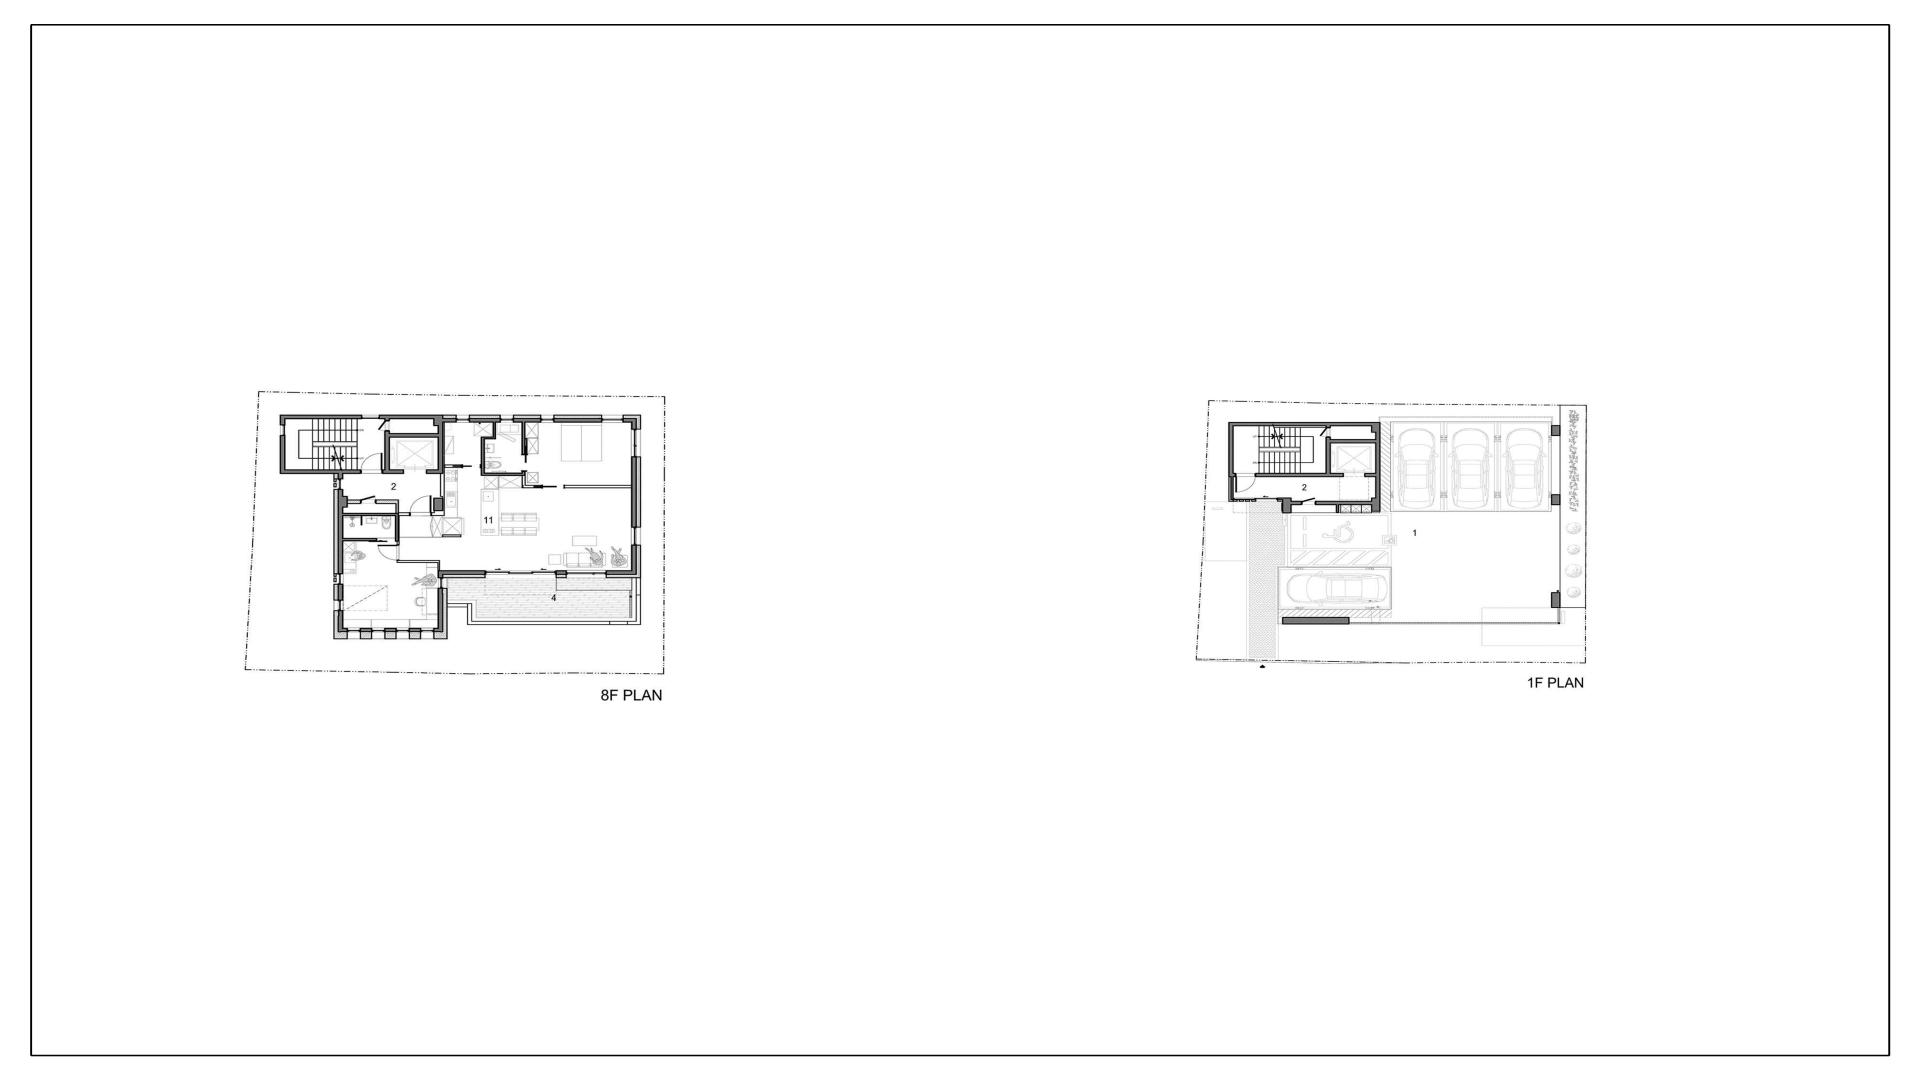door: (360, 452, 382, 473), (409, 496, 431, 516), (377, 542, 400, 560), (1236, 473, 1255, 492), (1233, 497, 1276, 501), (534, 484, 564, 489), (521, 454, 529, 472), (444, 464, 481, 468), (360, 496, 376, 504), (378, 421, 390, 431), (1302, 497, 1316, 505), (1320, 427, 1331, 438), (368, 541, 388, 542)
wall: (1229, 422, 1371, 426), (338, 489, 343, 574), (1282, 617, 1349, 624), (285, 414, 363, 419), (434, 588, 443, 632), (632, 456, 637, 527), (1255, 473, 1344, 477), (378, 415, 443, 421), (1375, 433, 1381, 497), (280, 469, 360, 473), (1349, 622, 1557, 624), (554, 418, 601, 423), (1276, 497, 1292, 513), (1229, 426, 1234, 473), (390, 433, 438, 438), (438, 426, 443, 469), (338, 611, 348, 632), (1316, 501, 1371, 505), (385, 431, 390, 469), (1325, 436, 1331, 473), (280, 435, 285, 469), (1331, 439, 1375, 443), (434, 418, 456, 426), (564, 485, 632, 488), (469, 418, 501, 423), (443, 571, 485, 575), (1551, 592, 1561, 608), (440, 473, 444, 516), (485, 472, 526, 476), (481, 436, 485, 476), (632, 546, 637, 575), (343, 513, 396, 516), (1371, 497, 1381, 512), (434, 497, 443, 512), (607, 570, 632, 575), (522, 422, 526, 454), (396, 513, 400, 542), (382, 469, 404, 475), (1551, 425, 1560, 436), (397, 560, 438, 563), (514, 418, 541, 422), (1371, 422, 1381, 433), (1551, 495, 1560, 505), (343, 538, 377, 541), (338, 584, 343, 600), (376, 500, 396, 504), (384, 628, 397, 633), (426, 469, 443, 473), (343, 496, 348, 508), (555, 570, 567, 575), (360, 628, 372, 633), (1230, 477, 1233, 500), (622, 418, 637, 422), (280, 414, 285, 425), (438, 570, 444, 578), (396, 500, 400, 513), (442, 534, 462, 537), (348, 500, 360, 504), (409, 628, 421, 632), (1291, 501, 1303, 505), (431, 512, 443, 516), (630, 422, 637, 429), (1365, 473, 1375, 477), (1557, 608, 1560, 624), (400, 512, 409, 516), (522, 476, 526, 485), (493, 423, 496, 436), (1336, 505, 1340, 513), (522, 485, 534, 488), (338, 473, 343, 479), (485, 436, 496, 439), (1229, 473, 1236, 477), (438, 560, 440, 570), (1325, 426, 1331, 427)
window: (485, 571, 555, 579), (567, 570, 607, 578), (630, 430, 641, 456), (632, 527, 641, 546), (601, 418, 622, 423), (438, 578, 447, 588), (363, 414, 380, 419), (421, 628, 434, 633), (338, 574, 344, 584), (338, 600, 344, 611), (456, 418, 469, 423), (501, 418, 514, 423), (541, 418, 554, 423), (397, 628, 409, 633), (372, 628, 384, 633), (348, 628, 360, 633), (338, 479, 343, 489), (280, 425, 285, 435)
